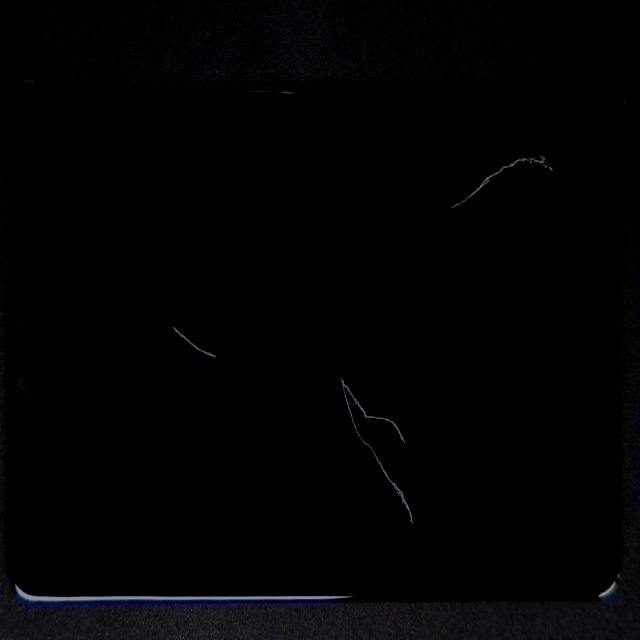scratch: (246, 273, 594, 636), (222, 65, 640, 310), (145, 201, 313, 506)
